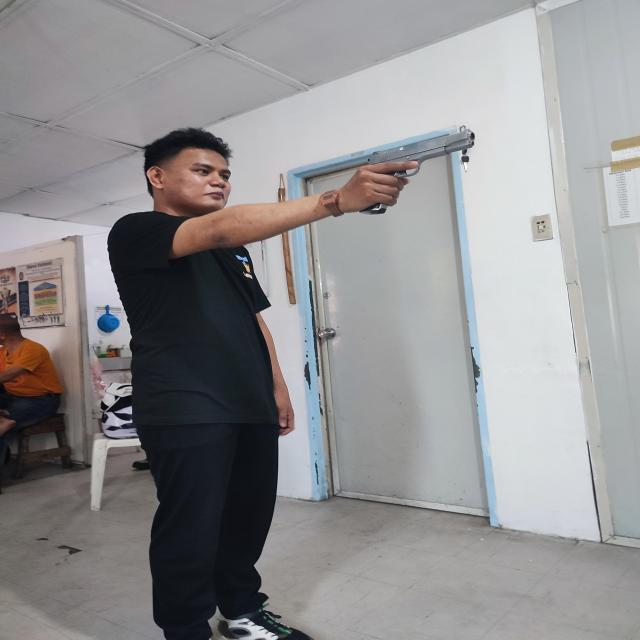pistol: (359, 129, 475, 214)
